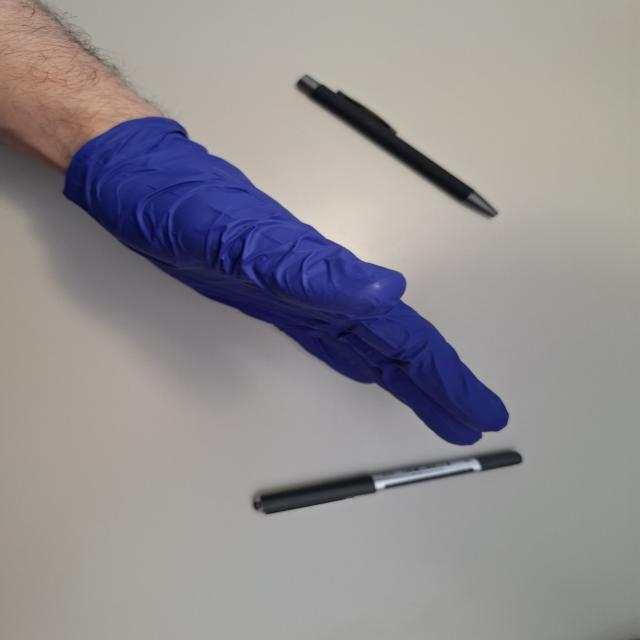glove_on: (55, 108, 520, 450)
